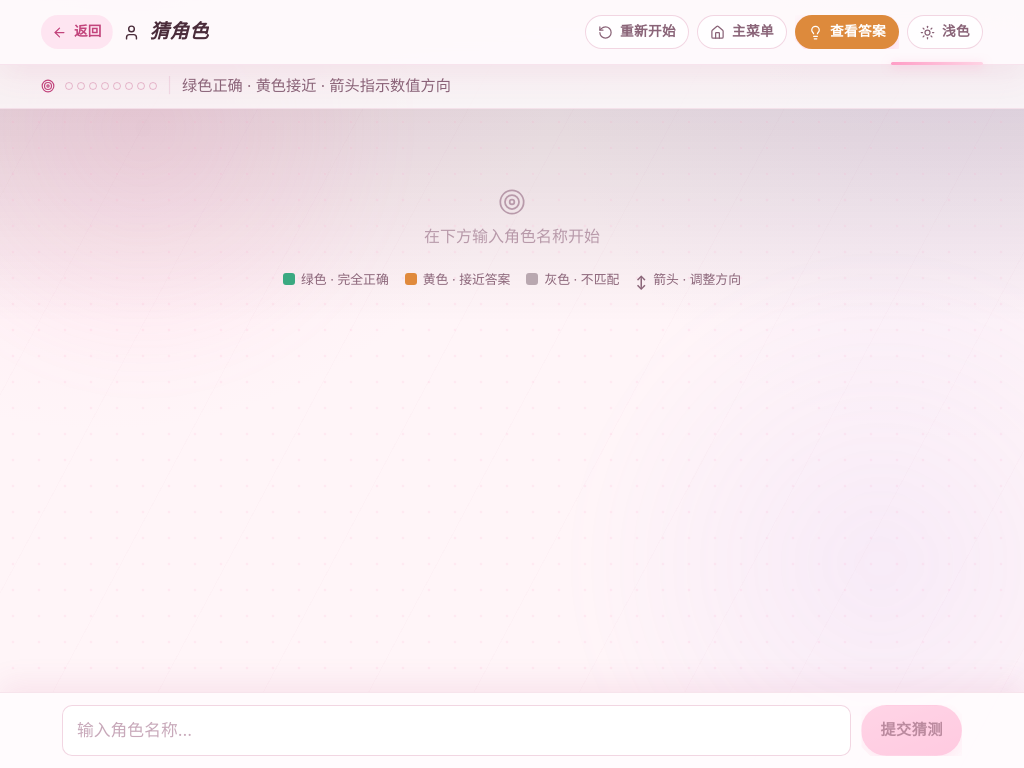
Test: CharacterGame UX › starts a game, submits a guess, and reveals the winning answer
The image size is (1024, 768).
Expected: the text "在下方输入角色名称开始" is shown, x1=424 y1=224 x2=600 y2=248
Type "Sora Akanezaki" into the dropdown with placeholder "输入角色名称..." at (457, 730), box x1=62 y1=705 x2=851 y2=756
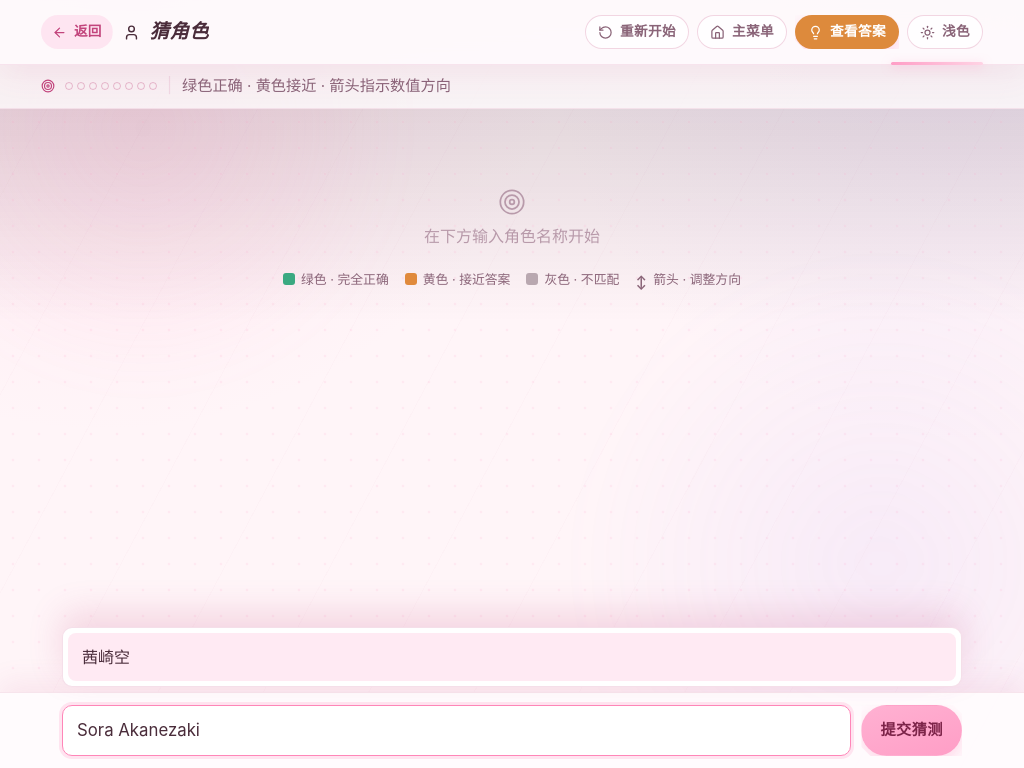
Click the button "提交猜测" at (912, 730), box x1=861 y1=705 x2=962 y2=756
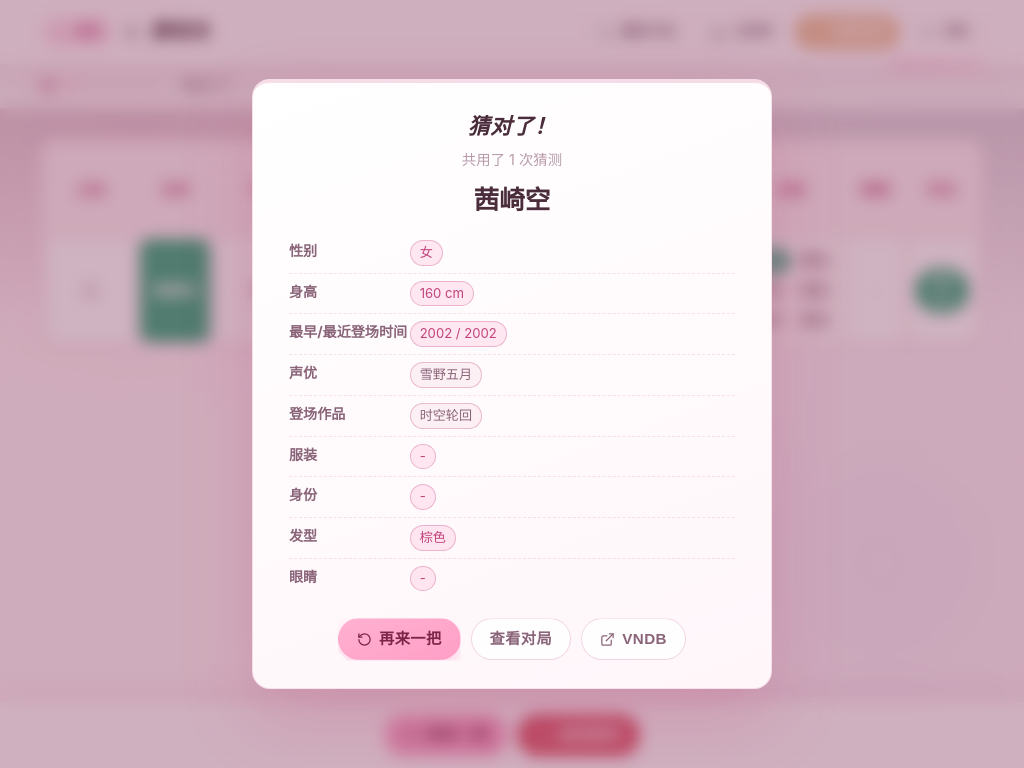
Expected: the dialog shows "茜崎空", x1=474 y1=184 x2=550 y2=215
Expected: the text "粉色" is shown, x1=792 y1=308 x2=836 y2=333
